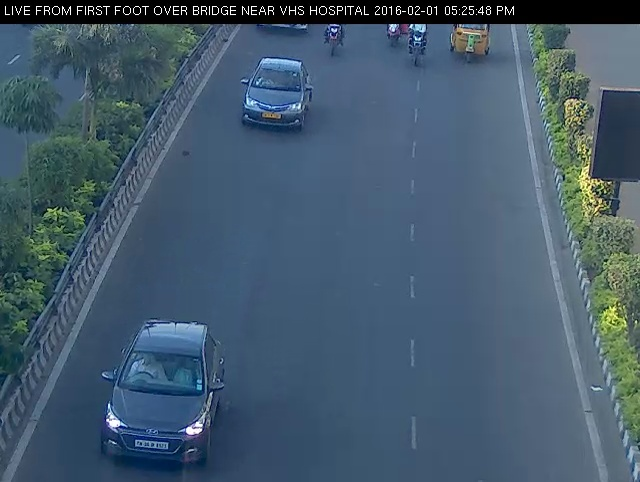Auto: (441, 13, 502, 68)
Car: (89, 305, 231, 477), (237, 56, 312, 135), (241, 8, 316, 42)
Person: (397, 14, 434, 70), (319, 15, 348, 61)
